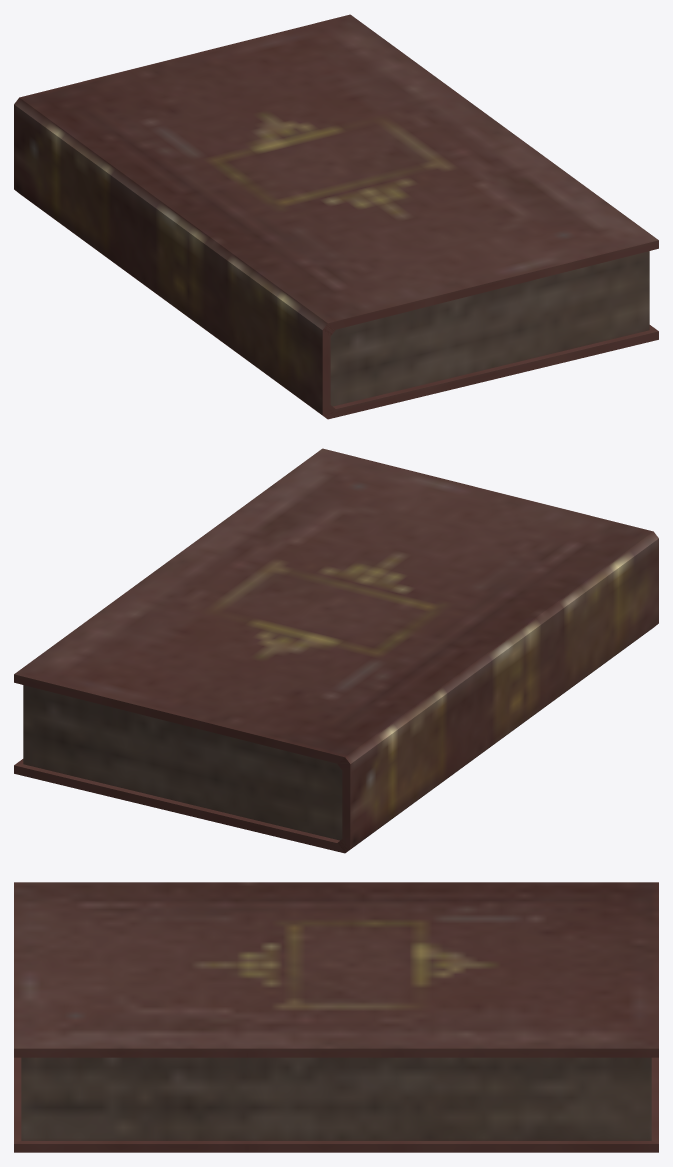
The model's file is book_1.obj.
3 renders of one model, top to bottom at view 1: azimuth 30°, elevation 25°; view 2: azimuth 150°, elevation 25°; view 3: azimuth 270°, elevation 25°, orthographic. The views are drawn at different scales.
Parts seen in each view (by area): view 1: book_1; view 2: book_1; view 3: book_1.
Part boxes in pixels (x1,y1,x2,y2): book_1: (14,14,658,419); book_1: (14,448,658,853); book_1: (14,882,658,1152).
Bounding box in the file's own units: 0.17 × 0.048 × 0.27.
